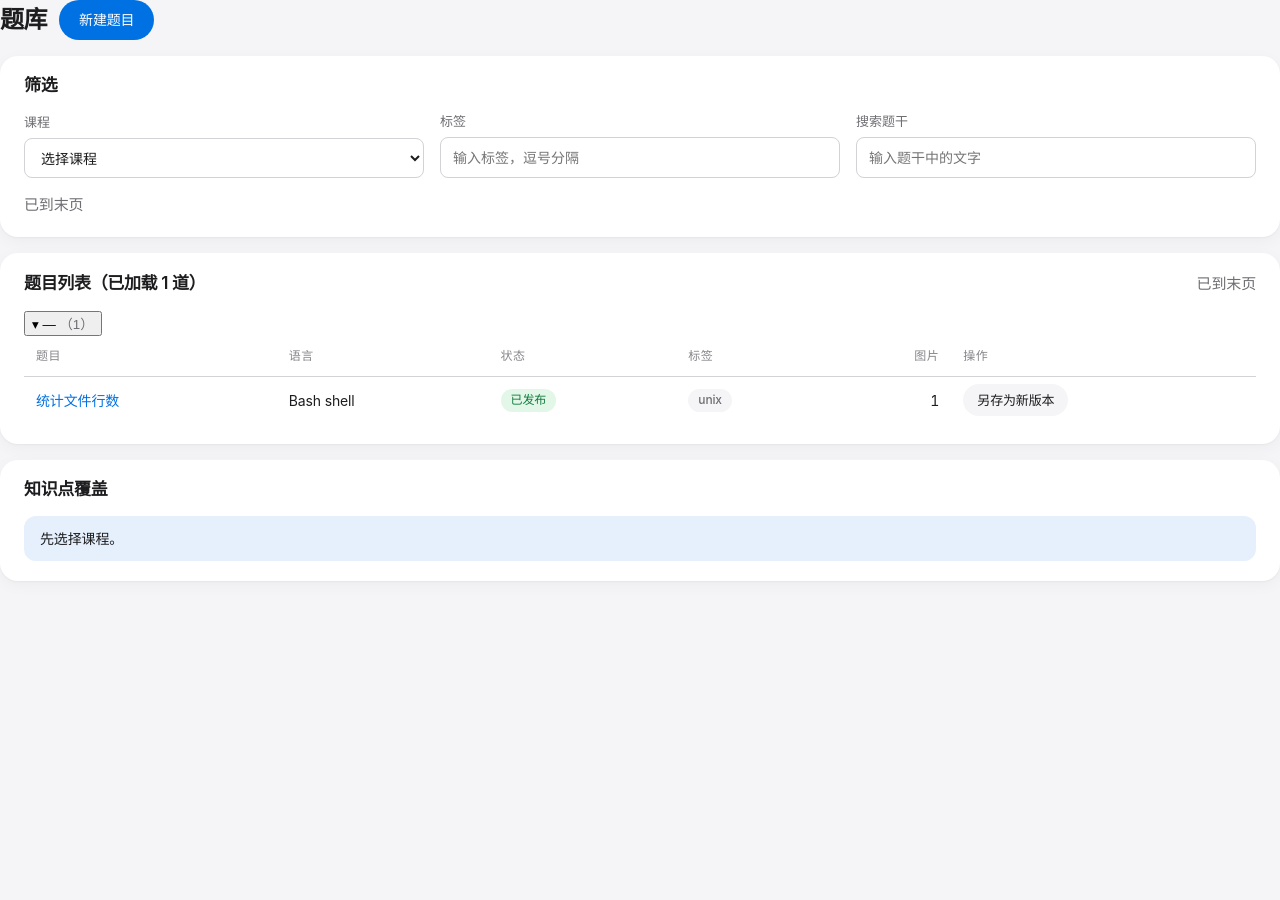
题目列表上的标签覆盖度（CHG-0020） › 点覆盖度里的标签即填入既有标签筛选（复用 tags 重复参数）
This screenshot has width=1280, height=900.
expect the element with test id "question-table" is shown: met, box [24,311,1256,424]
Select "OS-2026 · 操作系统" in the dropdown labelled "课程": (224, 158) [24,138,424,178]
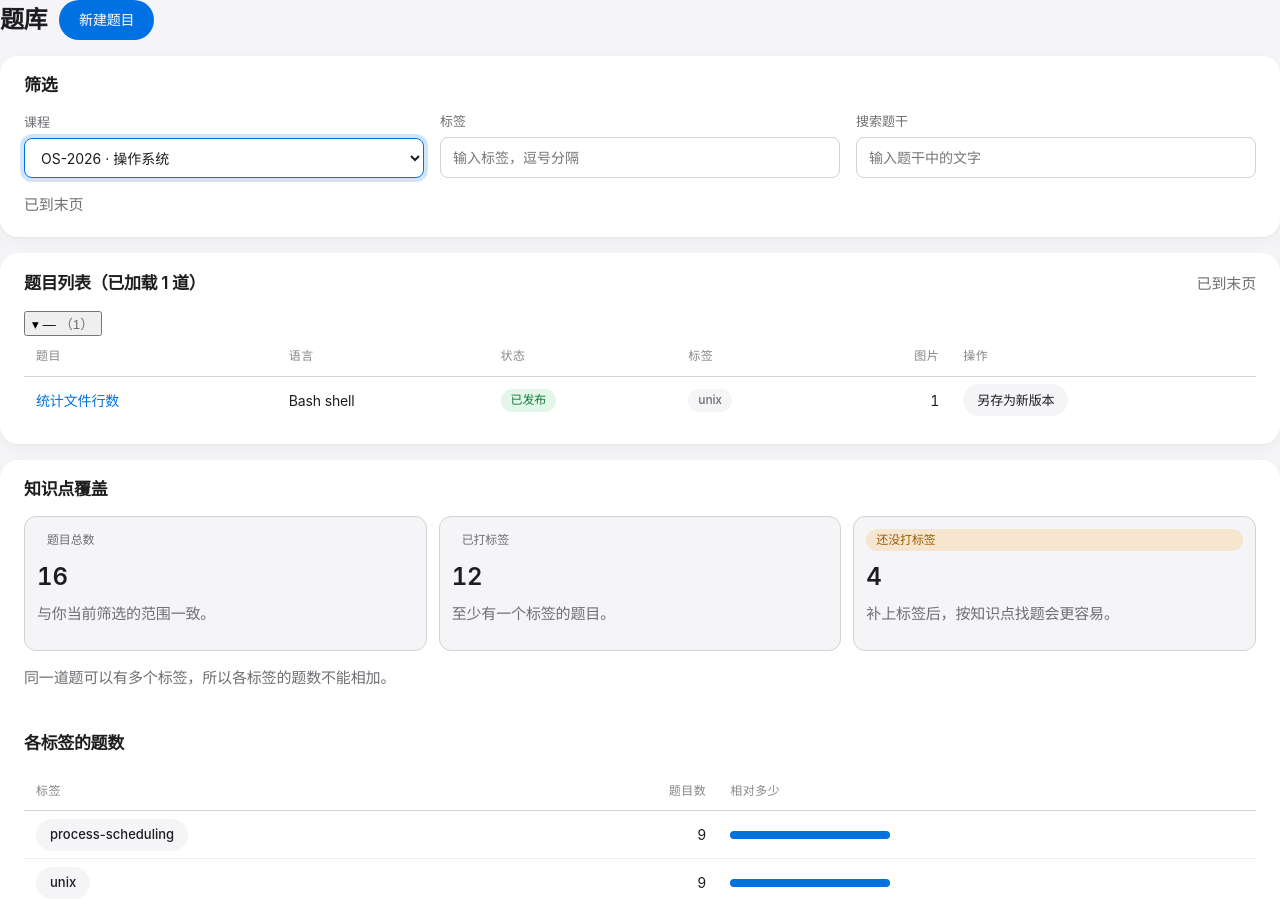
Click the button with test id "coverage-tag-unix": (63, 883) [36,867,90,899]
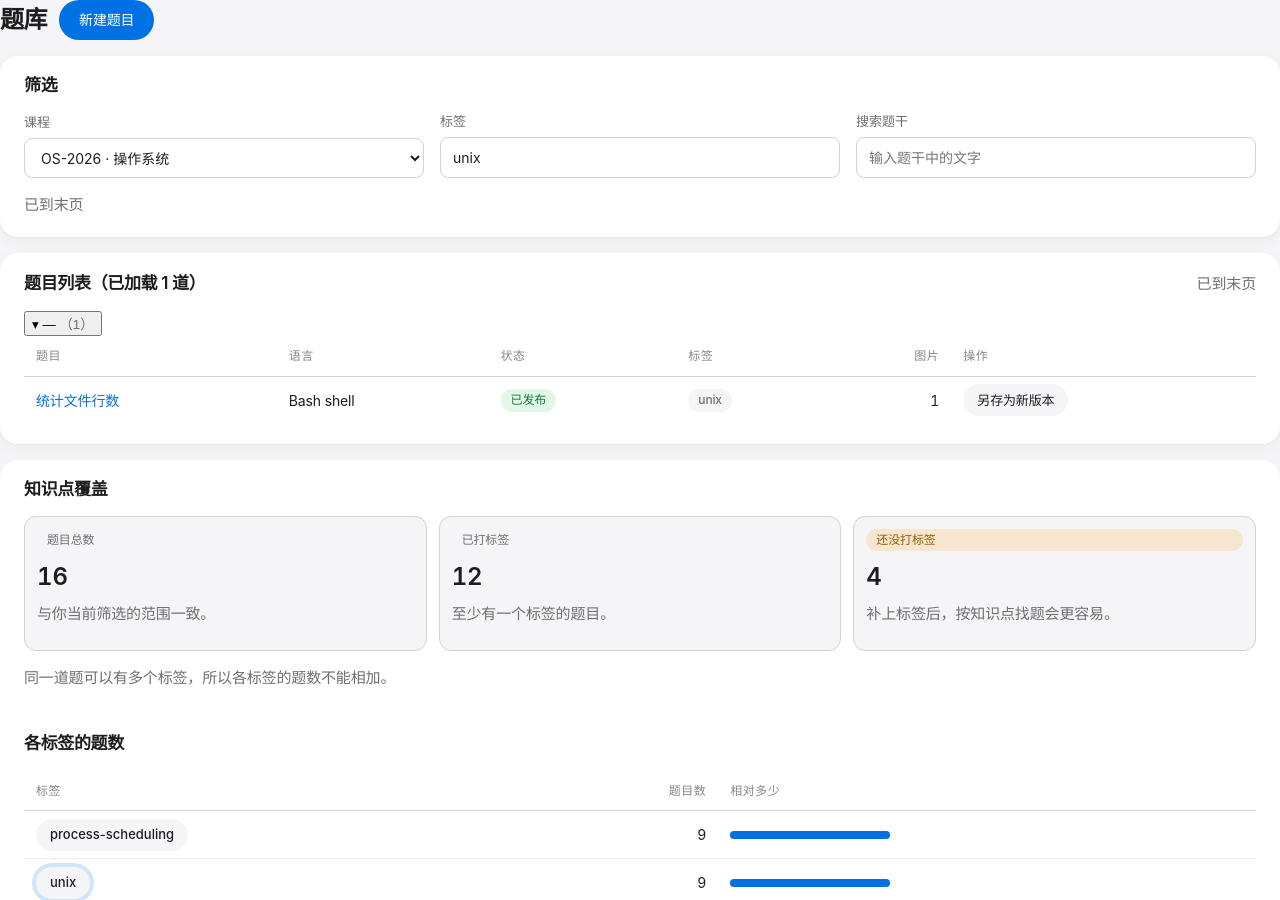
expect the field labelled "标签" holds "unix": met, box [440,137,840,178]
